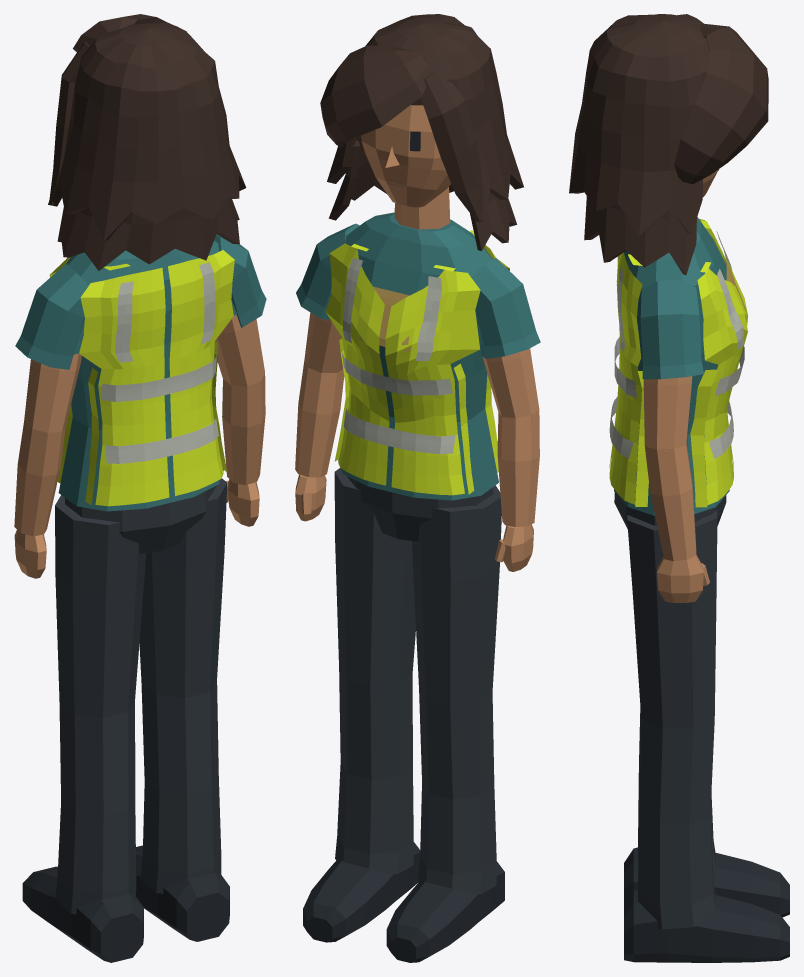
The model's file is lwf_steward_cleanup_female_v1.glb.
The picture shows the model from 3 angles, left to right: view 1: azimuth 30°, elevation 25°; view 2: azimuth 150°, elevation 25°; view 3: azimuth 270°, elevation 25°; orthographic projection. The views are drawn at different scales.
Visible parts, largest first — view 1: LowerBody, UpperBody, FittedVest, LeftForearm, RightForearm, LeftUpperArm, RightUpperArm, LeftHand, RightHand; view 2: LowerBody, UpperBody, FittedVest, LeftForearm, RightForearm, LeftUpperArm, RightUpperArm, LeftHand, RightHand; view 3: UpperBody, LowerBody, FittedVest, RightForearm, RightUpperArm, RightHand.
Boxes of the visible parts, x1,y1,x2,y2 form: LowerBody: [22, 478, 229, 962]; UpperBody: [15, 14, 266, 511]; FittedVest: [49, 250, 234, 506]; LeftForearm: [14, 422, 65, 536]; RightForearm: [222, 373, 265, 484]; LeftUpperArm: [24, 319, 84, 432]; RightUpperArm: [215, 300, 264, 386]; LeftHand: [14, 530, 46, 578]; RightHand: [226, 479, 259, 526]; LowerBody: [303, 468, 504, 962]; UpperBody: [296, 14, 540, 500]; FittedVest: [325, 230, 509, 495]; LeftForearm: [497, 410, 539, 526]; RightForearm: [295, 360, 344, 477]; LeftUpperArm: [476, 321, 539, 418]; RightUpperArm: [304, 312, 342, 372]; LeftHand: [494, 524, 533, 571]; RightHand: [295, 474, 326, 521]; UpperBody: [569, 14, 768, 515]; LowerBody: [614, 492, 789, 962]; FittedVest: [609, 218, 747, 507]; RightForearm: [645, 443, 696, 561]; RightUpperArm: [643, 376, 692, 449]; RightHand: [657, 555, 709, 602].
Size of the model in its own units: 0.4694 by 1.7 by 0.3721.
Materials: 2 (2 with a texture image).
